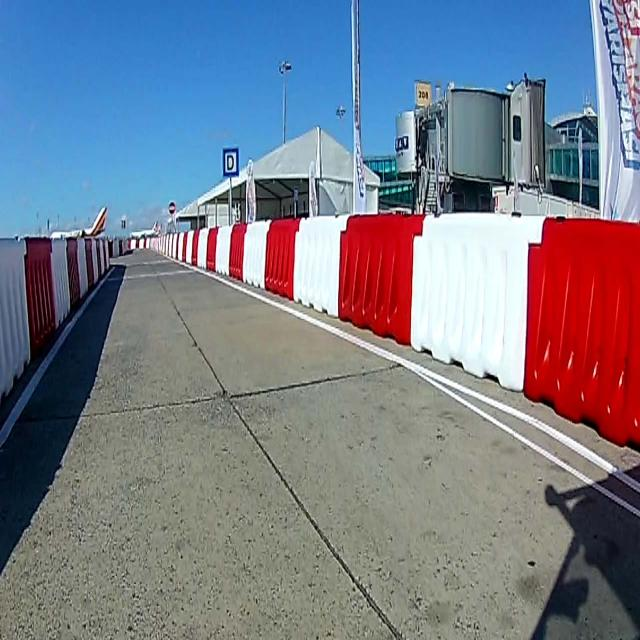durak: (222, 148, 239, 178)
girisyok: (168, 201, 176, 215)
